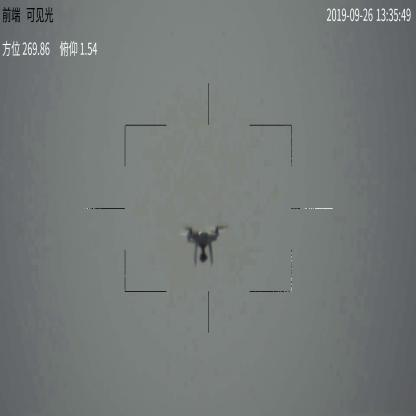uav: (183, 224, 225, 264)
